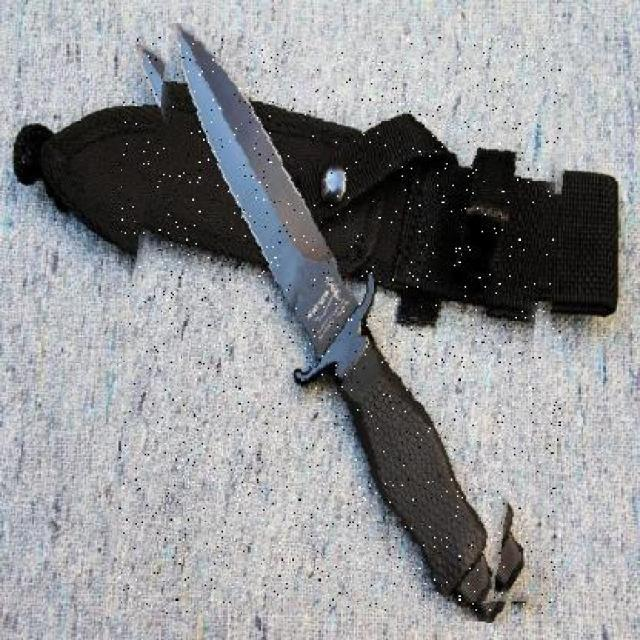knife: (118, 35, 560, 614)
